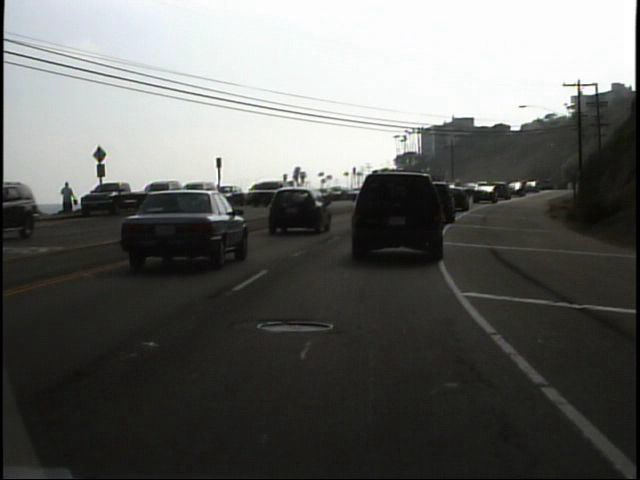person: (59, 179, 80, 220)
